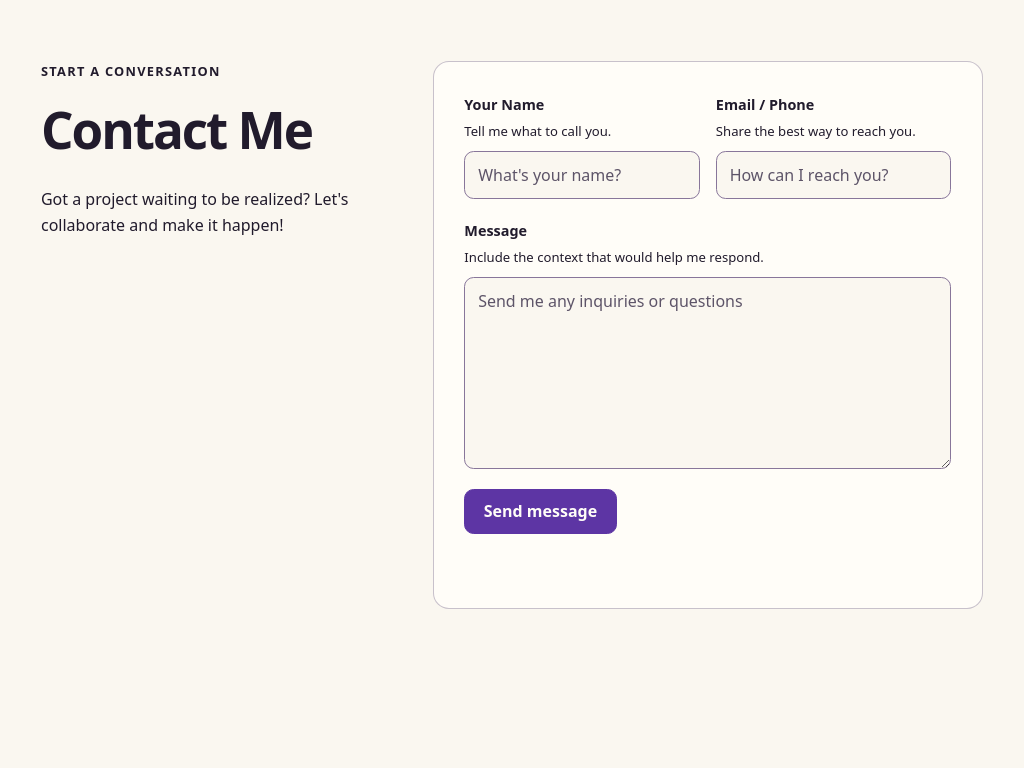
Scenario: ContactForm › retains editable input after failure and supports a successful labeled retry
The image size is (1024, 768).
Type "Ada Lovelace" into the field labelled "Your Name" at (582, 175), box [464,151,700,199]
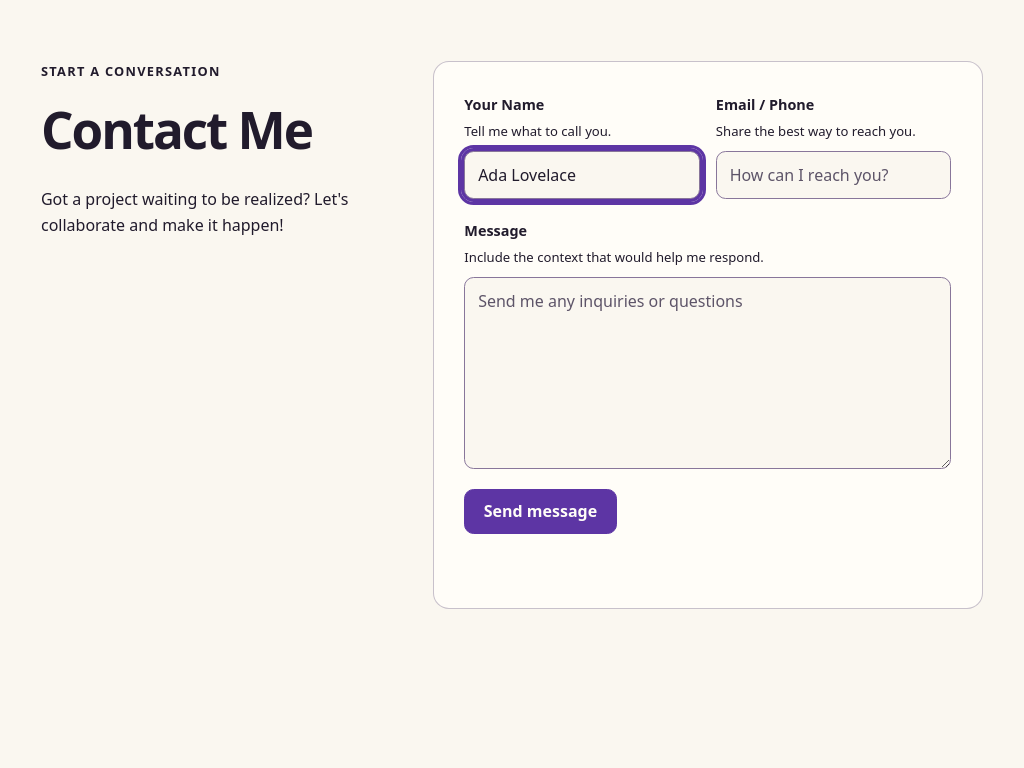
Type "ada@example.com" into the field labelled "Email / Phone" at (834, 175), box [716,151,951,199]
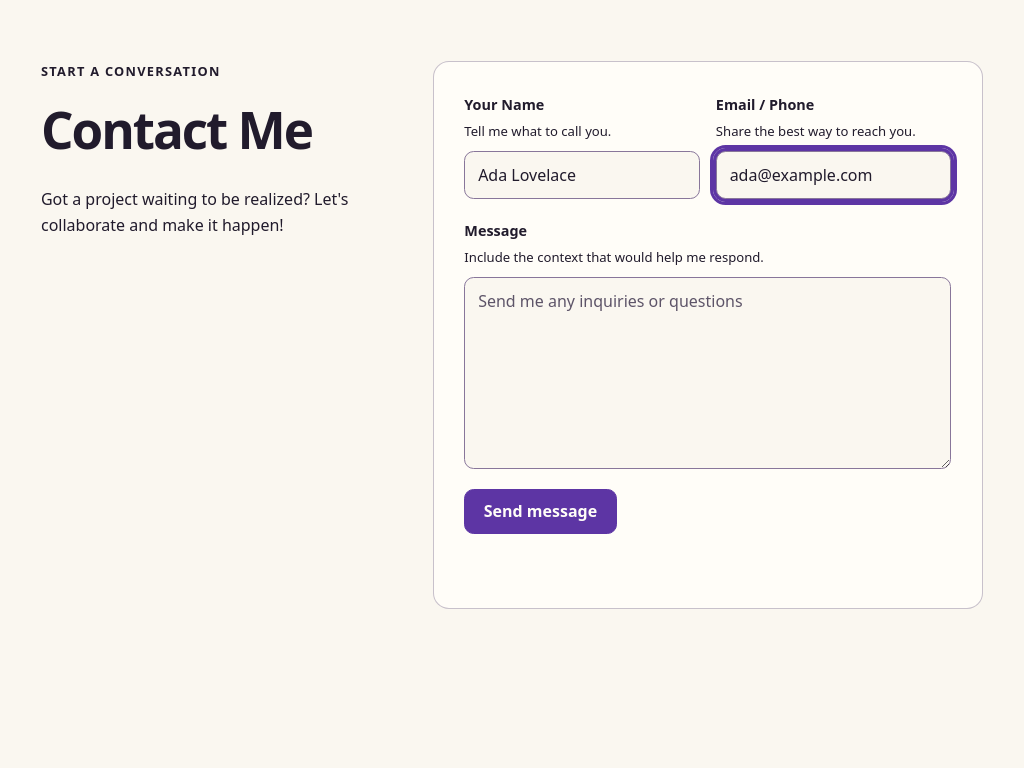
Type "Let us build something useful." into the text box labelled "Message" at (708, 373), box [464,277,951,469]
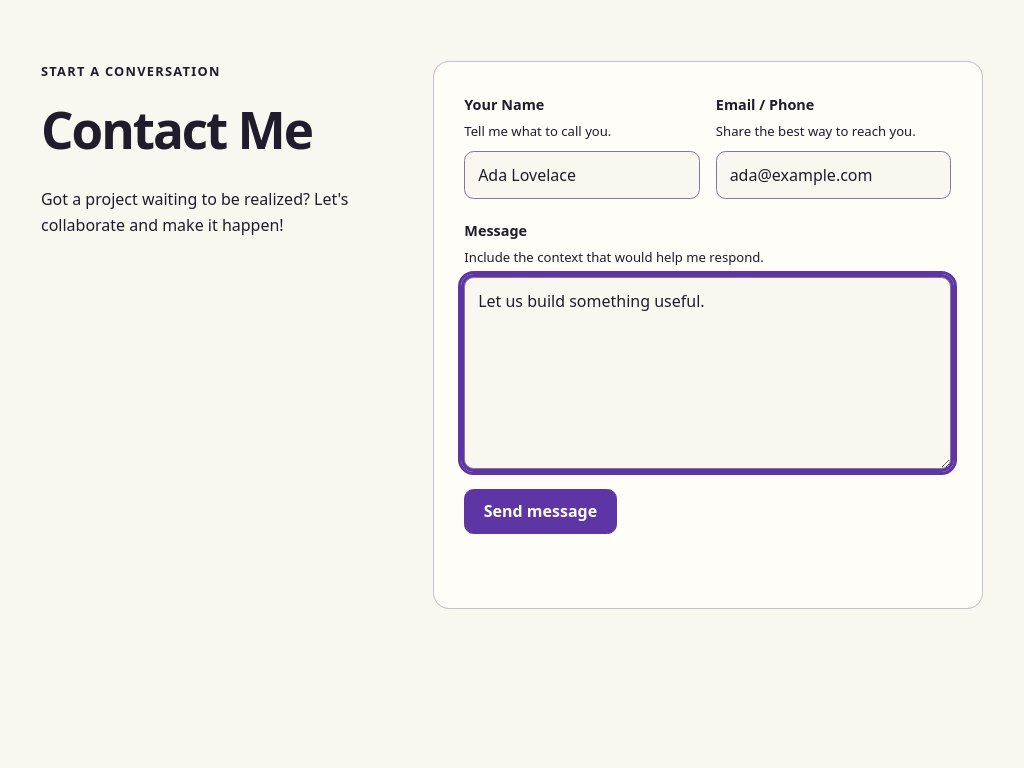
Click the button "Send message" at (540, 512), box [464,489,616,534]
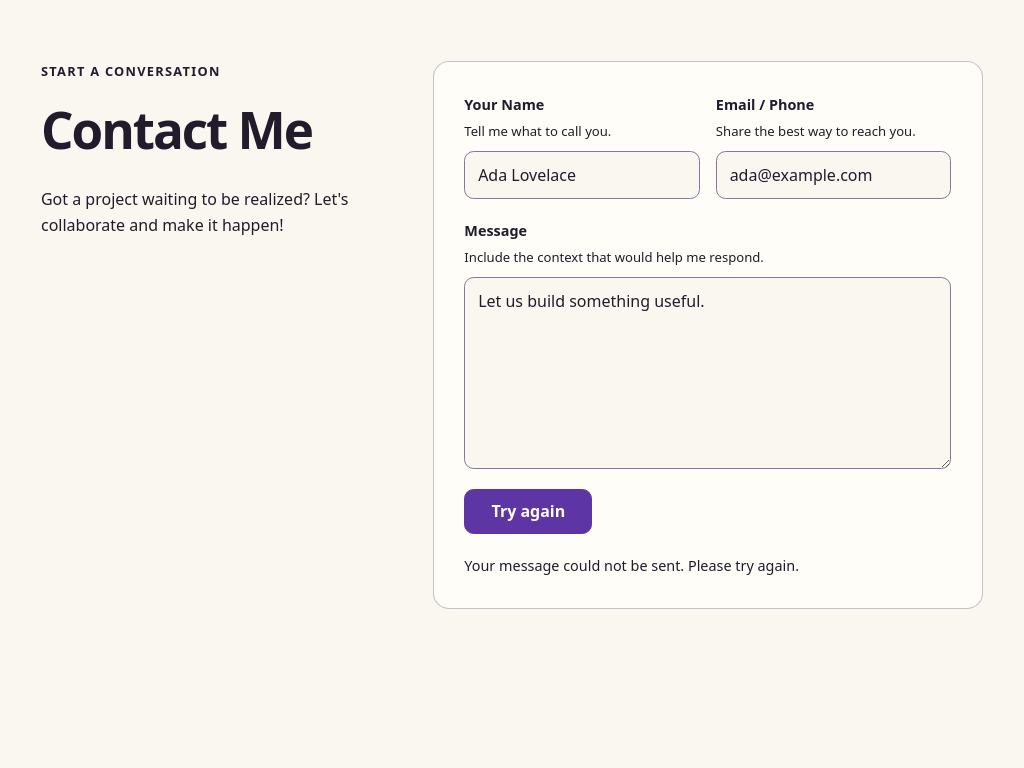
Expected: the number of messages is 1, [464,556,799,575]
Expected: the message reads "Your message could not be sent. Please try again.", [464,556,799,575]
Expected: the element named "Try again" is shown, [464,93,951,534]
Replace the text in the text box labelled "Message" with "  Retrying with an updated message.  " at (708, 373), box [464,277,951,469]
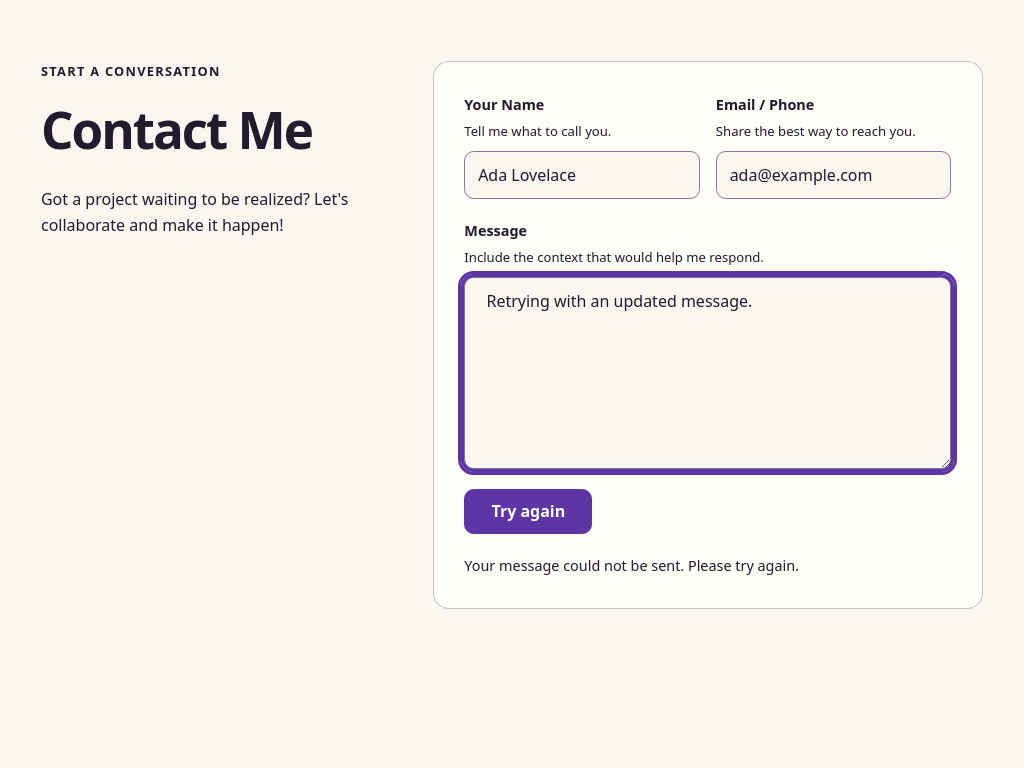
Click the button "Try again" at (528, 512), box [464,489,592,534]
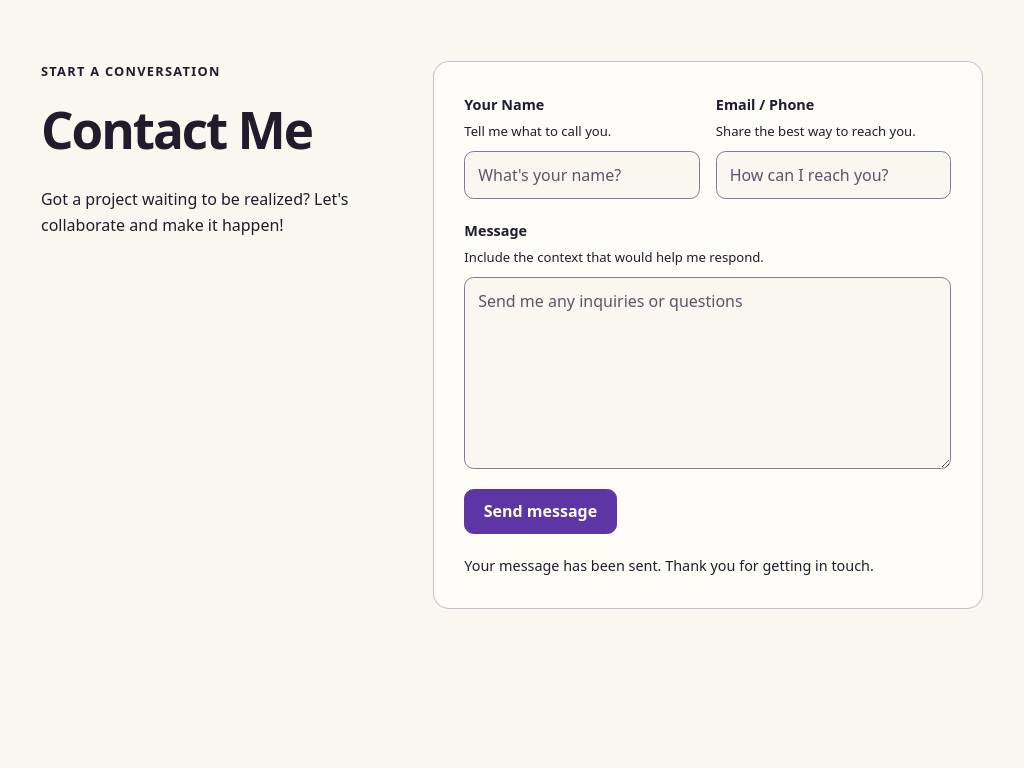
Expected: the message reads "Your message has been sent. Thank you for getting in touch.", [464,556,874,575]
Expected: the field labelled "Your Name" is empty, [464,151,700,199]
Expected: the field labelled "Email / Phone" is empty, [716,151,951,199]
